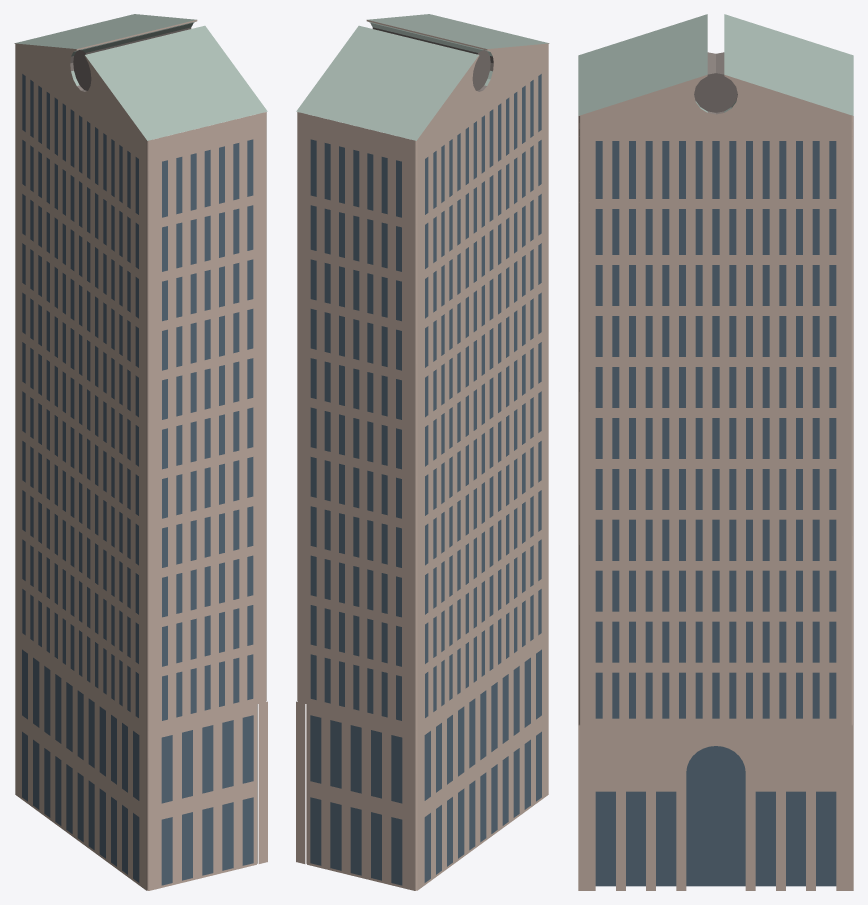
Rendered from nyc-550-madison.glb.
3 views of the same model, side by side, from view 1: azimuth 30°, elevation 25°; view 2: azimuth 150°, elevation 25°; view 3: azimuth 270°, elevation 25° (orthographic). The views are drawn at different scales.
Visible parts, largest first — view 1: 550 Madison Avenue; view 2: 550 Madison Avenue; view 3: 550 Madison Avenue.
Part boxes in pixels (x1,y1,x2,y2): 550 Madison Avenue: (14,14,267,890); 550 Madison Avenue: (296,14,549,890); 550 Madison Avenue: (578,14,853,890).
Bounding box in the file's own units: 31.5 × 197 × 60.3.
